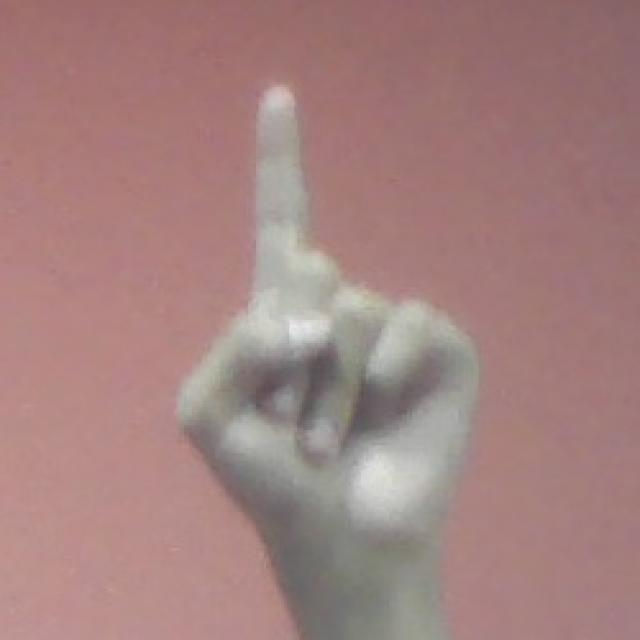Numeric-1: (179, 80, 479, 570)
